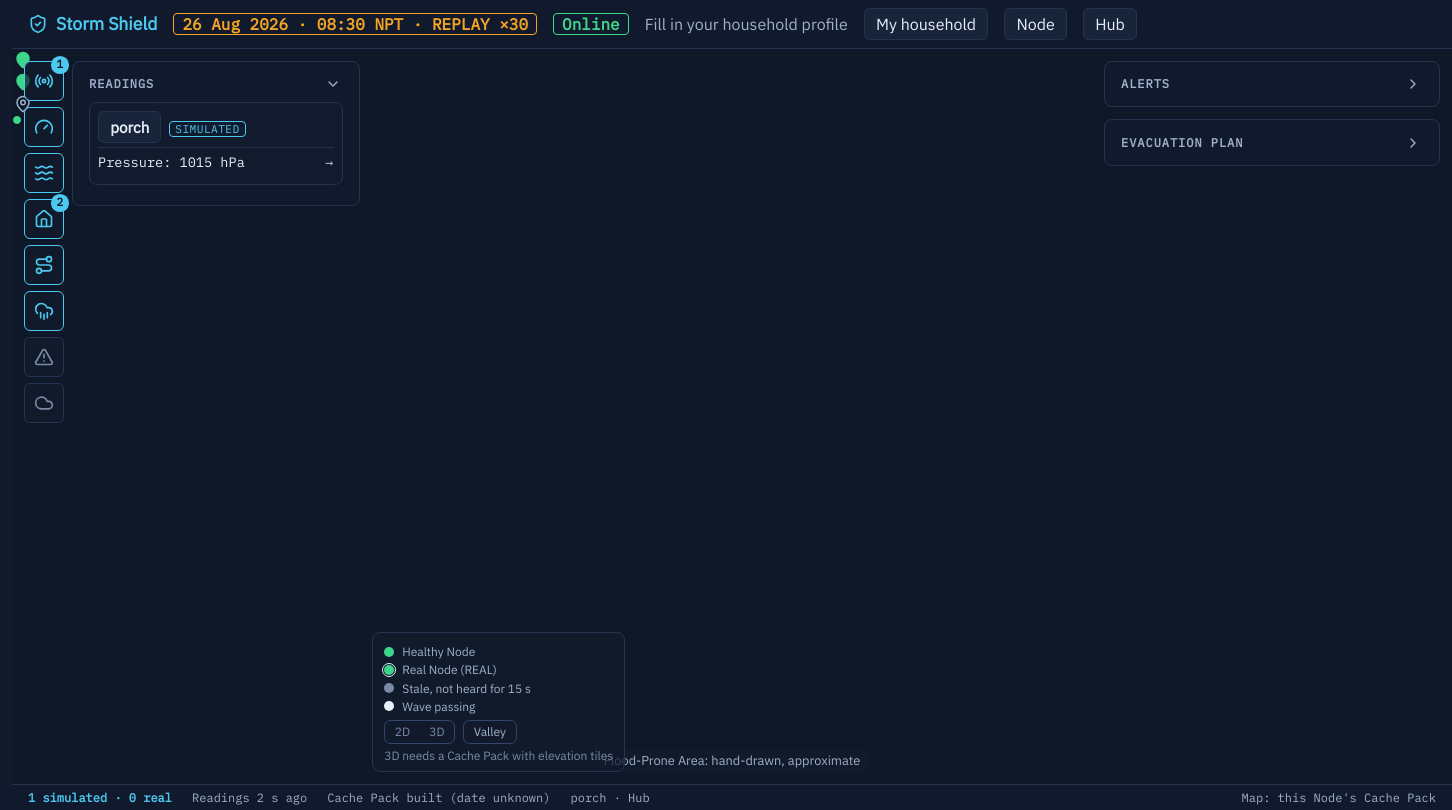
the rail's layer buttons › hide and show the Shelters on the map
Check: the number of elements with class "shelter-pin" is 3, box top-left (14, 51), bottom-right (32, 69); top-left (14, 73), bottom-right (32, 91); top-left (14, 95), bottom-right (32, 113)
Click the button named "Shelters, 2" at (44, 219), box top-left (24, 199), bottom-right (64, 239)
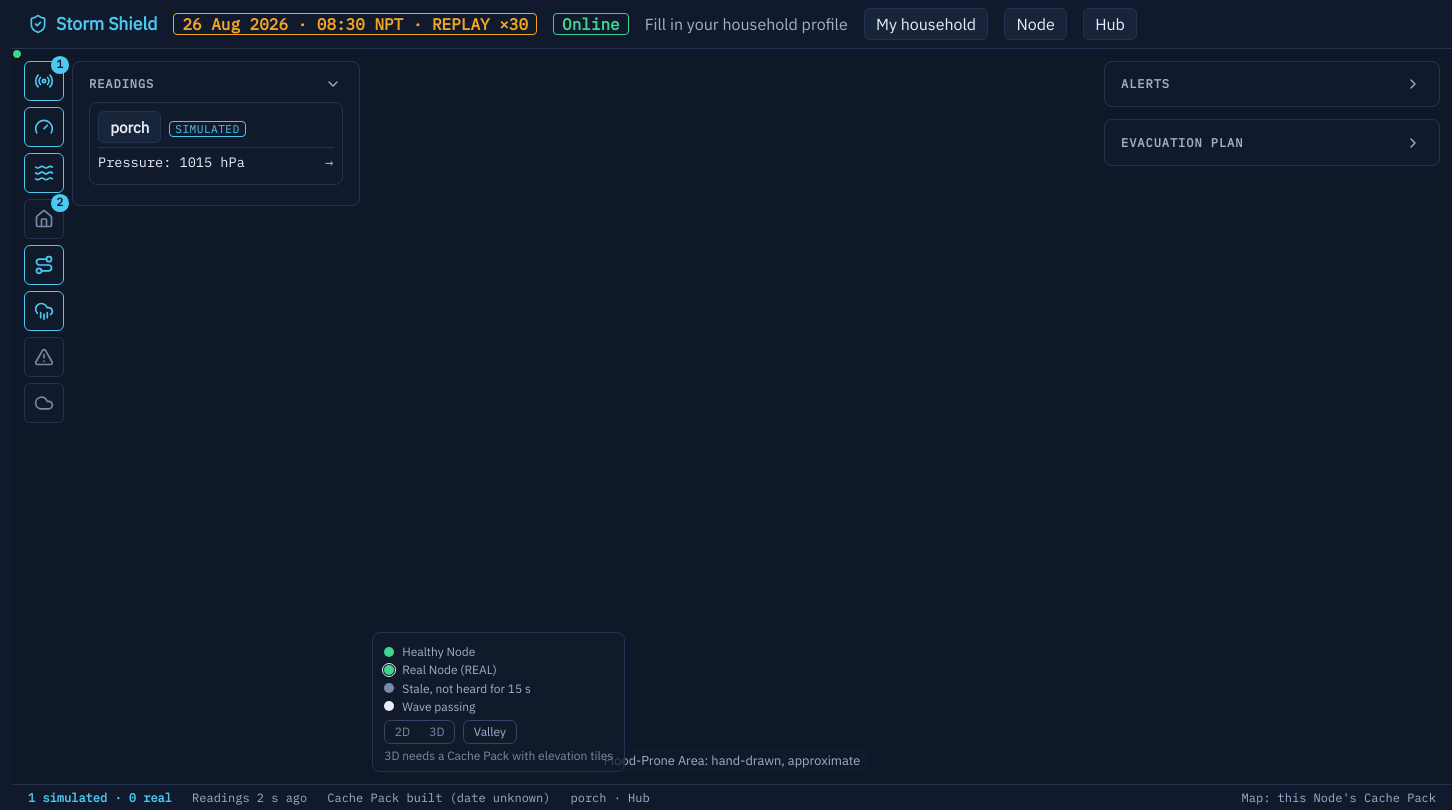
Check: no elements with class "shelter-pin" are shown
Click the button named "Shelters, 2" at (44, 219), box top-left (24, 199), bottom-right (64, 239)
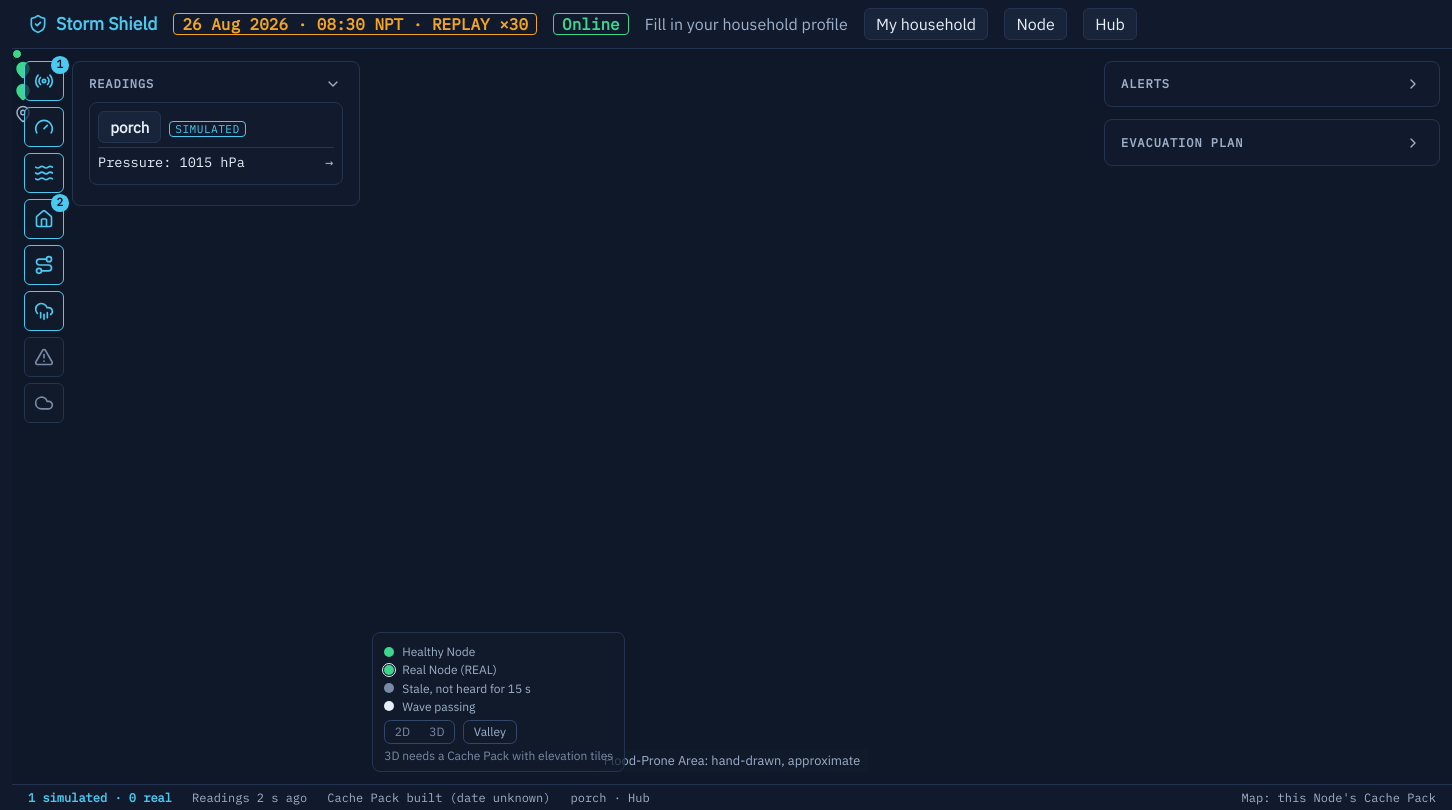
Check: the number of elements with class "shelter-pin" is 3, box top-left (14, 61), bottom-right (32, 79); top-left (14, 83), bottom-right (32, 101); top-left (14, 105), bottom-right (32, 123)
